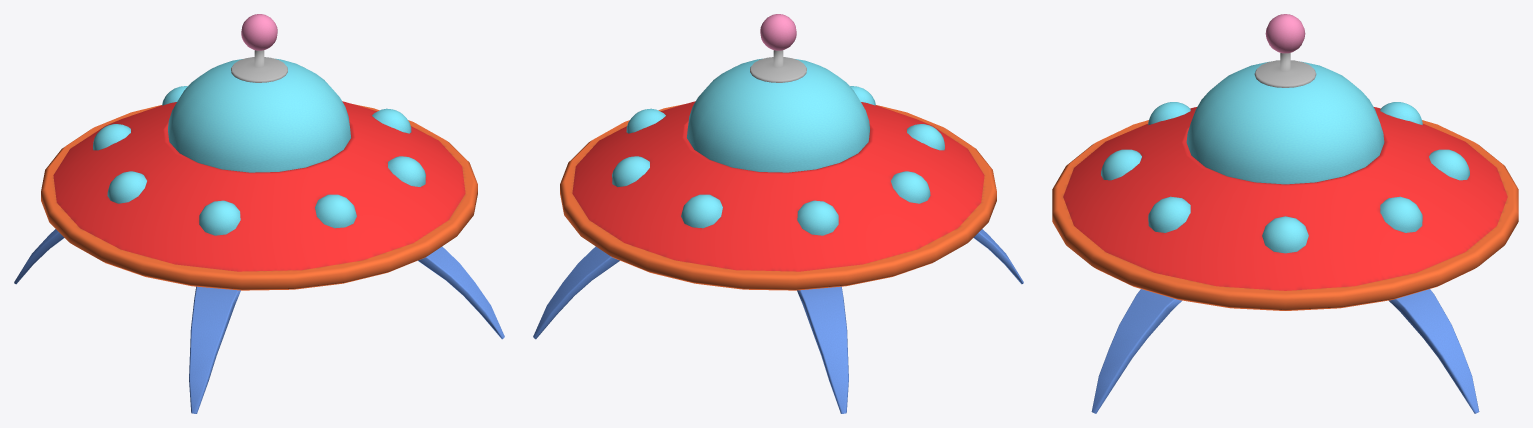
File: ufored.fbx
3 renders of one model, left to right at view 1: azimuth 30°, elevation 25°; view 2: azimuth 150°, elevation 25°; view 3: azimuth 270°, elevation 25°, orthographic. The views are drawn at different scales.
Visible parts, largest first — view 1: ufobody, ufomado1, ufoasi, ufomado, ufoue, ufoball; view 2: ufobody, ufomado1, ufoasi, ufomado, ufoue, ufoball; view 3: ufobody, ufomado1, ufoasi, ufomado, ufoue, ufoball.
Boxes of the visible parts, <box> form: ufobody: <box>41,101,477,290</box>; ufomado1: <box>168,58,350,172</box>; ufoasi: <box>14,229,504,413</box>; ufomado: <box>93,86,425,235</box>; ufoue: <box>231,50,287,82</box>; ufoball: <box>241,14,277,50</box>; ufobody: <box>560,101,996,290</box>; ufomado1: <box>687,58,869,172</box>; ufoasi: <box>533,229,1023,413</box>; ufomado: <box>612,86,944,235</box>; ufoue: <box>750,50,806,82</box>; ufoball: <box>760,14,796,50</box>; ufobody: <box>1052,107,1518,310</box>; ufomado1: <box>1186,61,1384,184</box>; ufoasi: <box>1091,289,1479,413</box>; ufomado: <box>1101,102,1469,253</box>; ufoue: <box>1254,53,1316,87</box>; ufoball: <box>1265,14,1305,53</box>.
Size of the model in its own units: 8.54 by 6.37 by 8.48.
